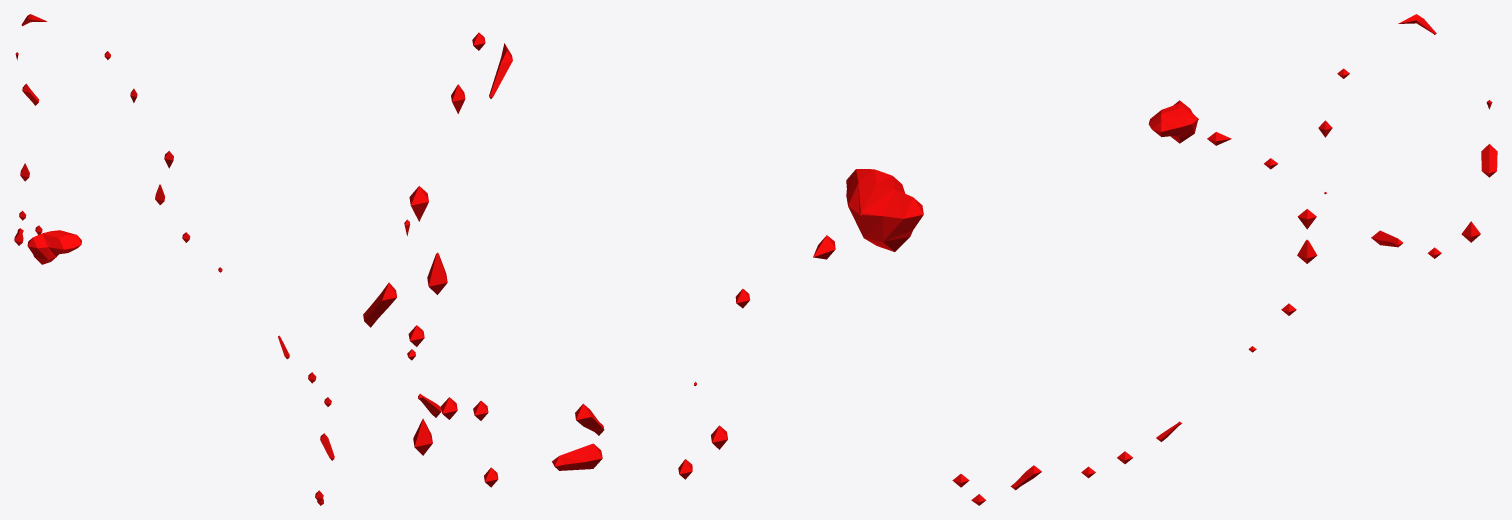
File: feoB_coarse.dae
3 renders of one model, left to right at view 1: azimuth 30°, elevation 25°; view 2: azimuth 150°, elevation 25°; view 3: azimuth 270°, elevation 25°, orthographic. The views are drawn at different scales.
Visible parts, largest first — view 1: feoB; view 2: feoB; view 3: feoB.
Part boxes in pixels (x1,y1,x2,y2): feoB: (14,14,334,505); feoB: (363,32,923,487); feoB: (952,14,1497,505).
Bounding box in the file's own units: 376 × 511 × 580.
